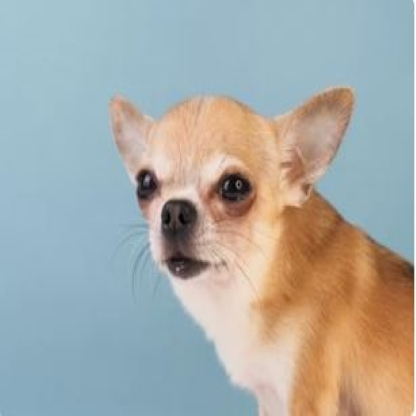chihuahua: (108, 86, 414, 413)
